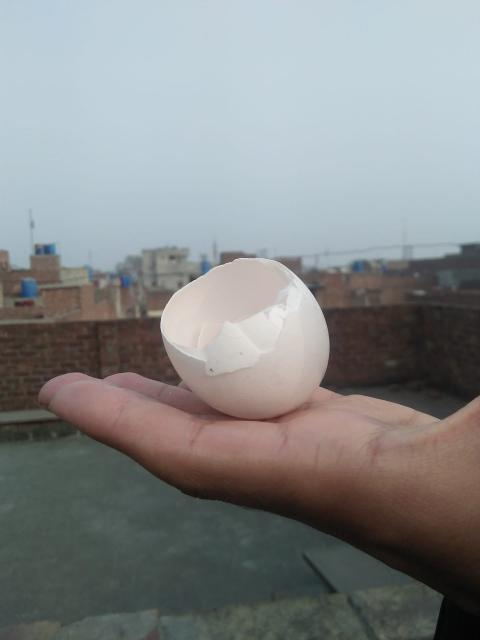Roto: (159, 256, 330, 420)
